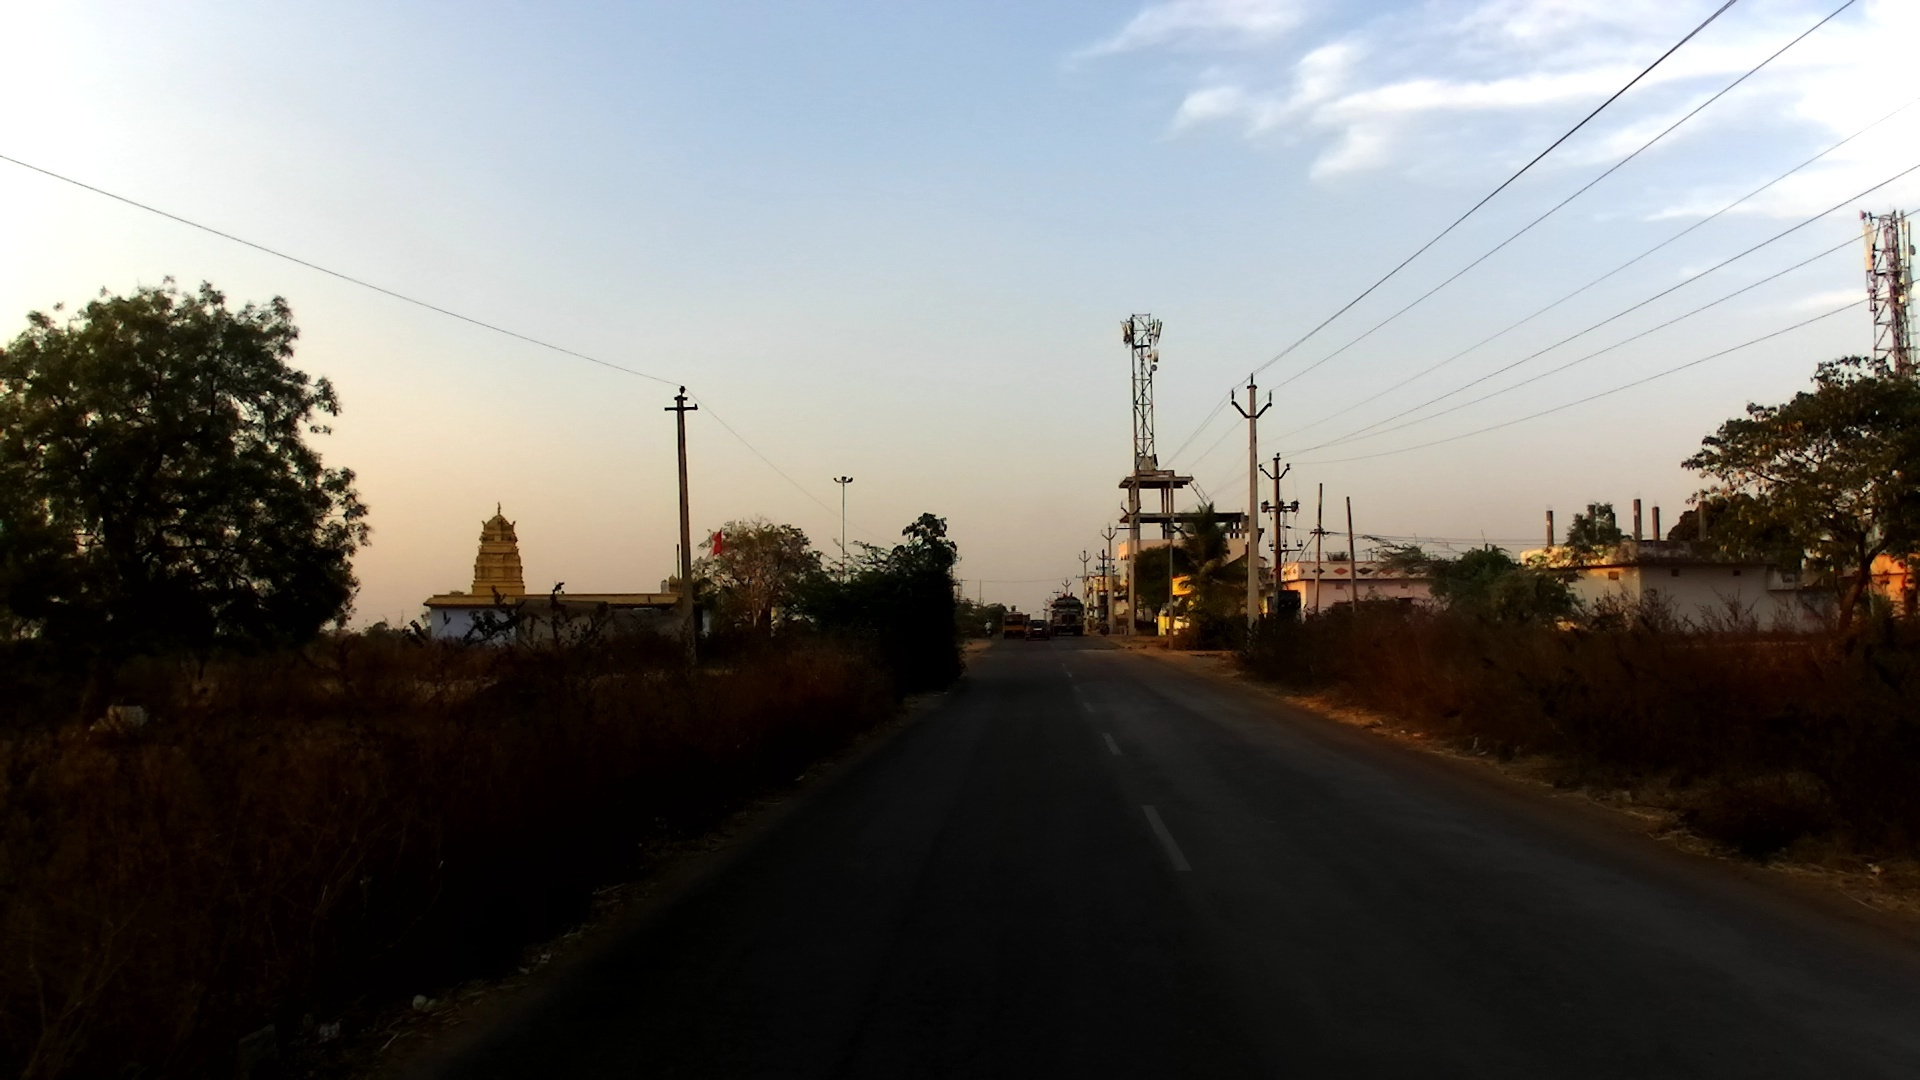car: (999, 610, 1025, 638), (1025, 620, 1051, 640)
motorcycle: (1098, 621, 1112, 637), (985, 625, 995, 641)
rider: (1097, 614, 1112, 633), (983, 618, 994, 633), (1069, 591, 1076, 598), (1061, 593, 1065, 599)
truck: (1048, 597, 1084, 638)
vehicle fallback: (1022, 611, 1031, 627)
